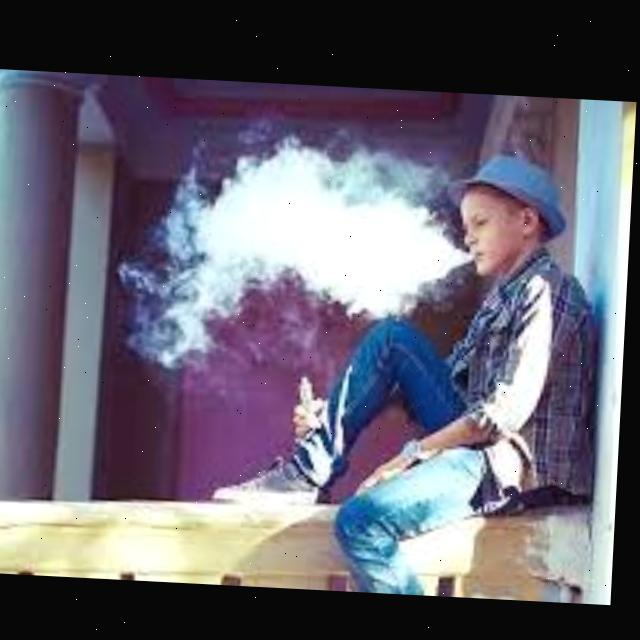vape: (302, 370, 318, 402)
